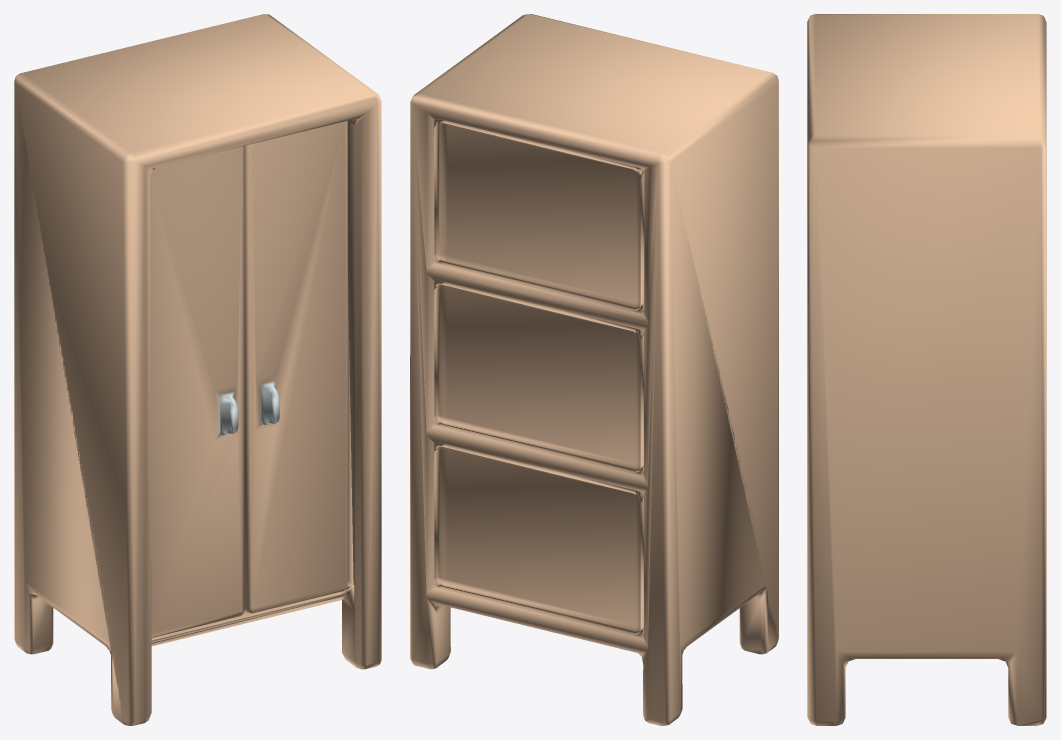
Rendered from wardrobe.glb.
3 renders of one model, left to right at view 1: azimuth 30°, elevation 25°; view 2: azimuth 150°, elevation 25°; view 3: azimuth 270°, elevation 25°, orthographic. The views are drawn at different scales.
Parts seen in each view (by area): view 1: wardrobe_bookcaseClosedDoors(Clone), wardrobe_doorRight, wardrobe_doorLeft; view 2: wardrobe_bookcaseClosedDoors(Clone); view 3: wardrobe_bookcaseClosedDoors(Clone).
Part boxes in pixels (bbox=[...]): wardrobe_bookcaseClosedDoors(Clone): bbox=[14, 14, 381, 725]; wardrobe_doorRight: bbox=[244, 121, 347, 613]; wardrobe_doorLeft: bbox=[151, 146, 244, 637]; wardrobe_bookcaseClosedDoors(Clone): bbox=[410, 14, 778, 725]; wardrobe_bookcaseClosedDoors(Clone): bbox=[807, 14, 1046, 725].
Bounding box in the file's own units: 1.12 × 2.38 × 0.875.
